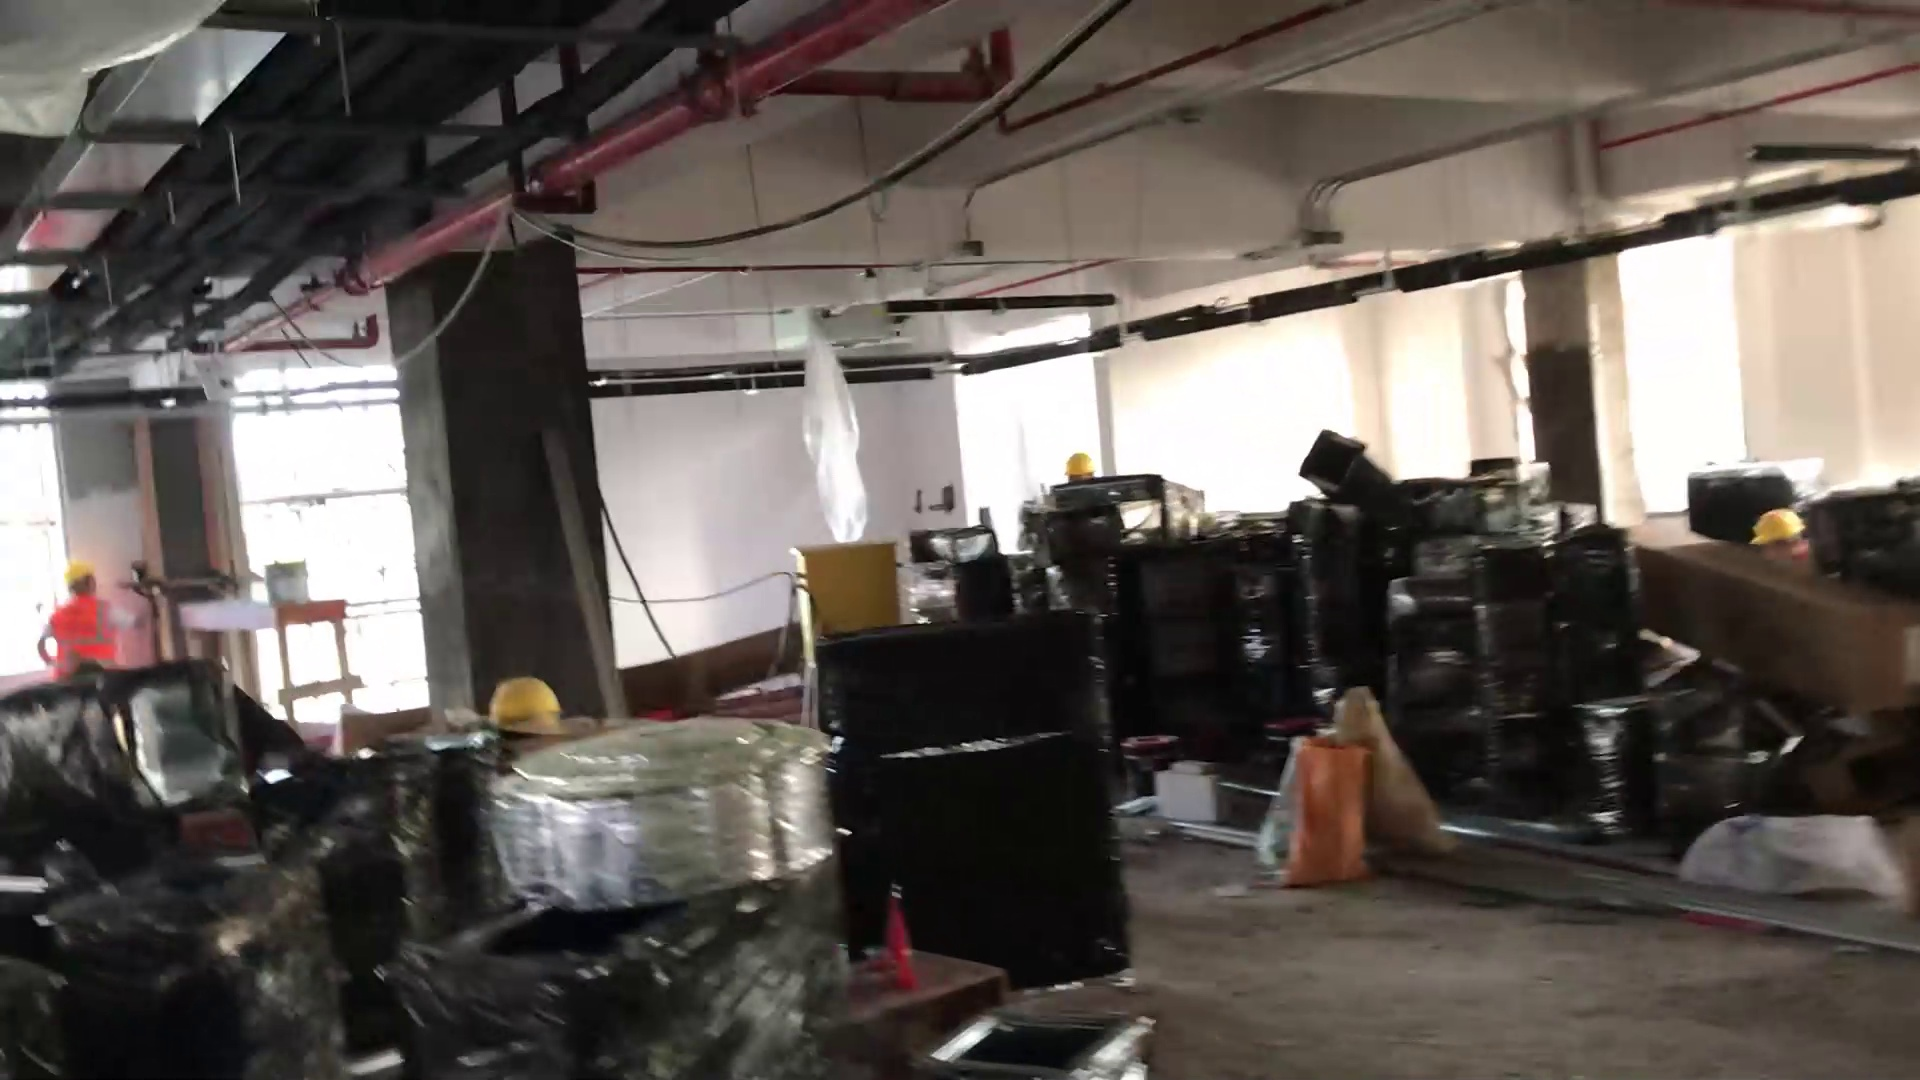ebox: (769, 539, 918, 630)
helmet: (486, 679, 558, 723), (1749, 507, 1802, 546), (62, 553, 99, 586), (1060, 450, 1100, 478)
person: (1750, 502, 1902, 606), (32, 554, 153, 676)
vest: (38, 597, 134, 665)
